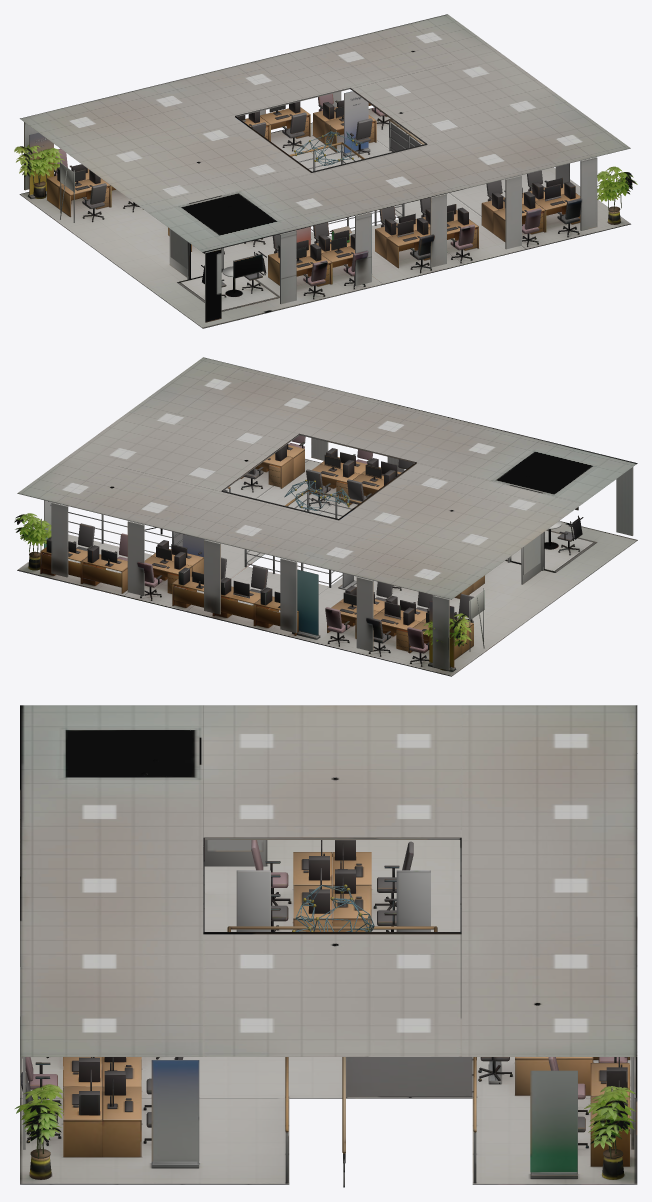
File: world_in1e.glb
3 views of the same model, one above another, from view 1: azimuth 30°, elevation 25°; view 2: azimuth 150°, elevation 25°; view 3: azimuth 270°, elevation 25° (orthographic). The views are drawn at different scales.
Visible parts, largest first — view 1: W_in1e; view 2: W_in1e; view 3: W_in1e.
Boxes of the visible parts, x1,y1,x2,y2 form: W_in1e: [14, 14, 637, 328]; W_in1e: [14, 357, 637, 676]; W_in1e: [15, 705, 637, 1187].
Size of the model in its own units: 15.58 by 3.21 by 11.12.
1 material, 1 textured.
